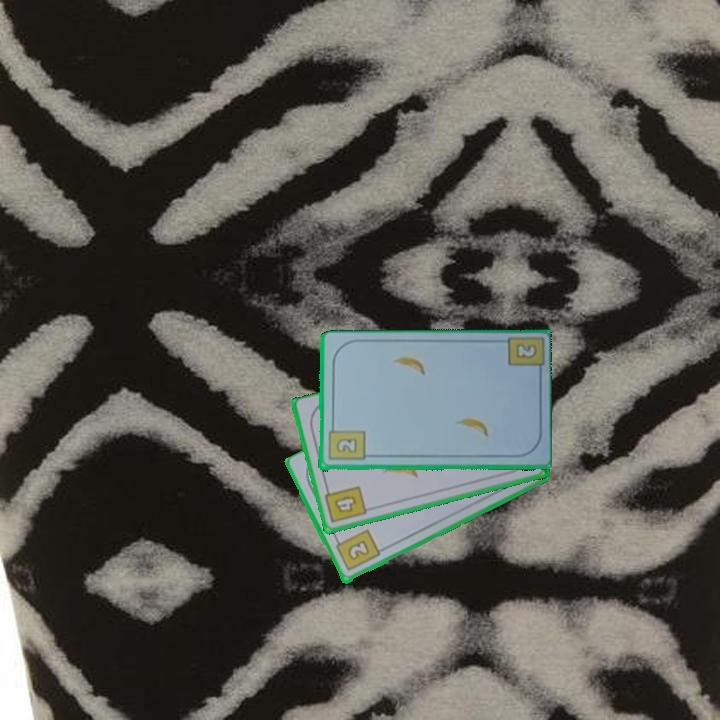2b: (331, 526, 383, 574), (325, 421, 367, 464), (512, 340, 540, 361)
4b: (322, 483, 370, 526)
